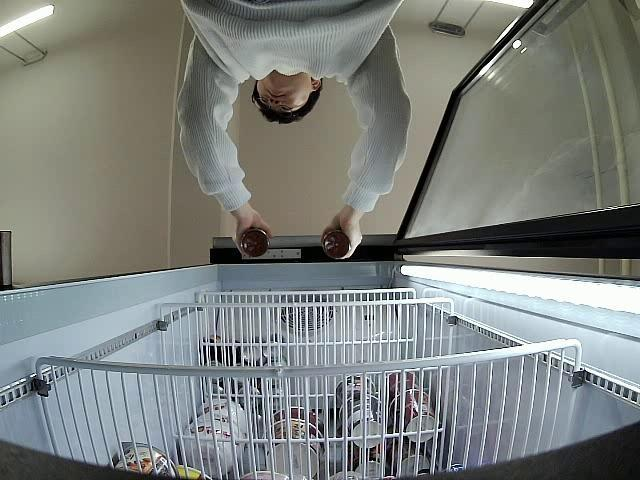19_17cha: (320, 231, 350, 260), (240, 228, 269, 256)
